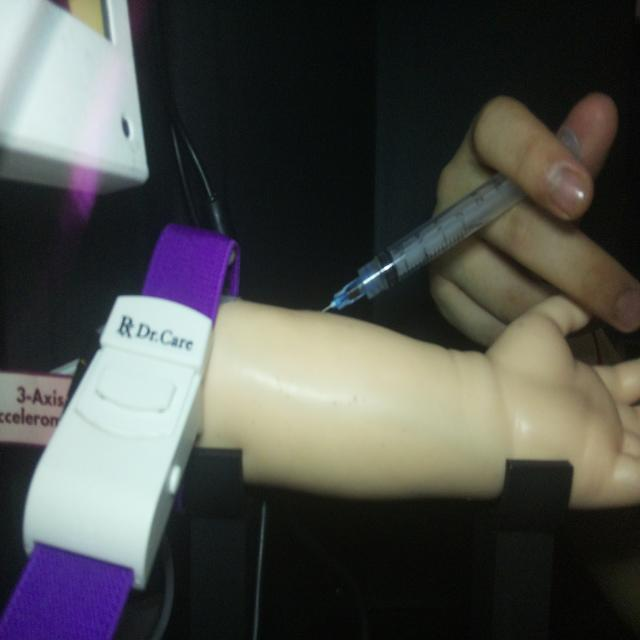24 degrees: (320, 120, 588, 316)
